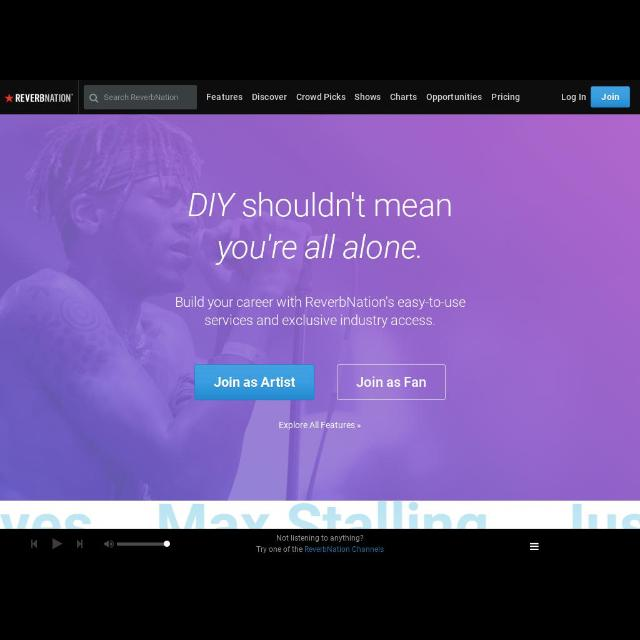backgroundimage: (2, 117, 356, 499)
icon: (52, 536, 62, 550), (89, 94, 99, 104), (30, 538, 38, 550), (104, 540, 115, 548), (76, 540, 84, 550), (529, 543, 539, 551)
image: (4, 93, 74, 103), (117, 540, 171, 548)
input: (84, 86, 198, 110)
panel: (0, 115, 638, 501), (6, 529, 638, 559), (1, 503, 639, 529)
text: (186, 192, 452, 266), (176, 296, 466, 328), (256, 535, 384, 553), (214, 377, 296, 388), (357, 376, 427, 388), (278, 421, 362, 429), (426, 93, 482, 103), (104, 95, 178, 102), (296, 93, 346, 101), (206, 93, 244, 101), (252, 93, 288, 101), (492, 93, 520, 103), (354, 93, 382, 101), (390, 93, 418, 101), (561, 94, 587, 102), (601, 93, 619, 101)
textbutton: (194, 364, 314, 400), (336, 364, 446, 400), (590, 86, 630, 108)
toolbar: (1, 81, 639, 115)
